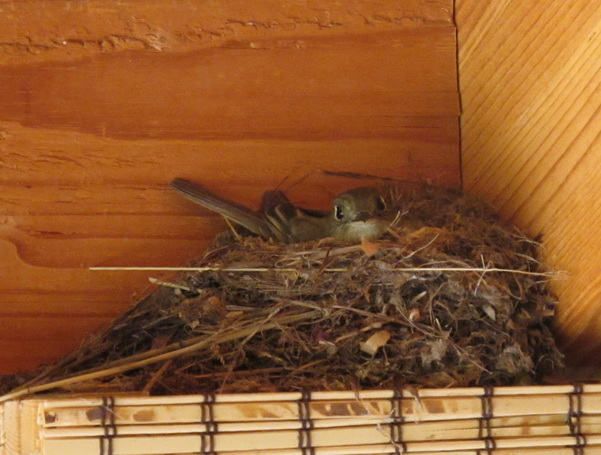bird-nest: (148, 185, 567, 386)
